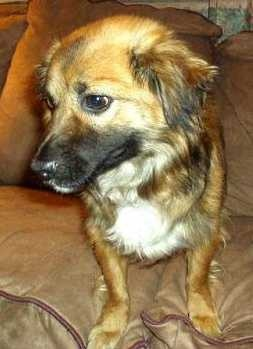dog: (26, 15, 235, 319)
